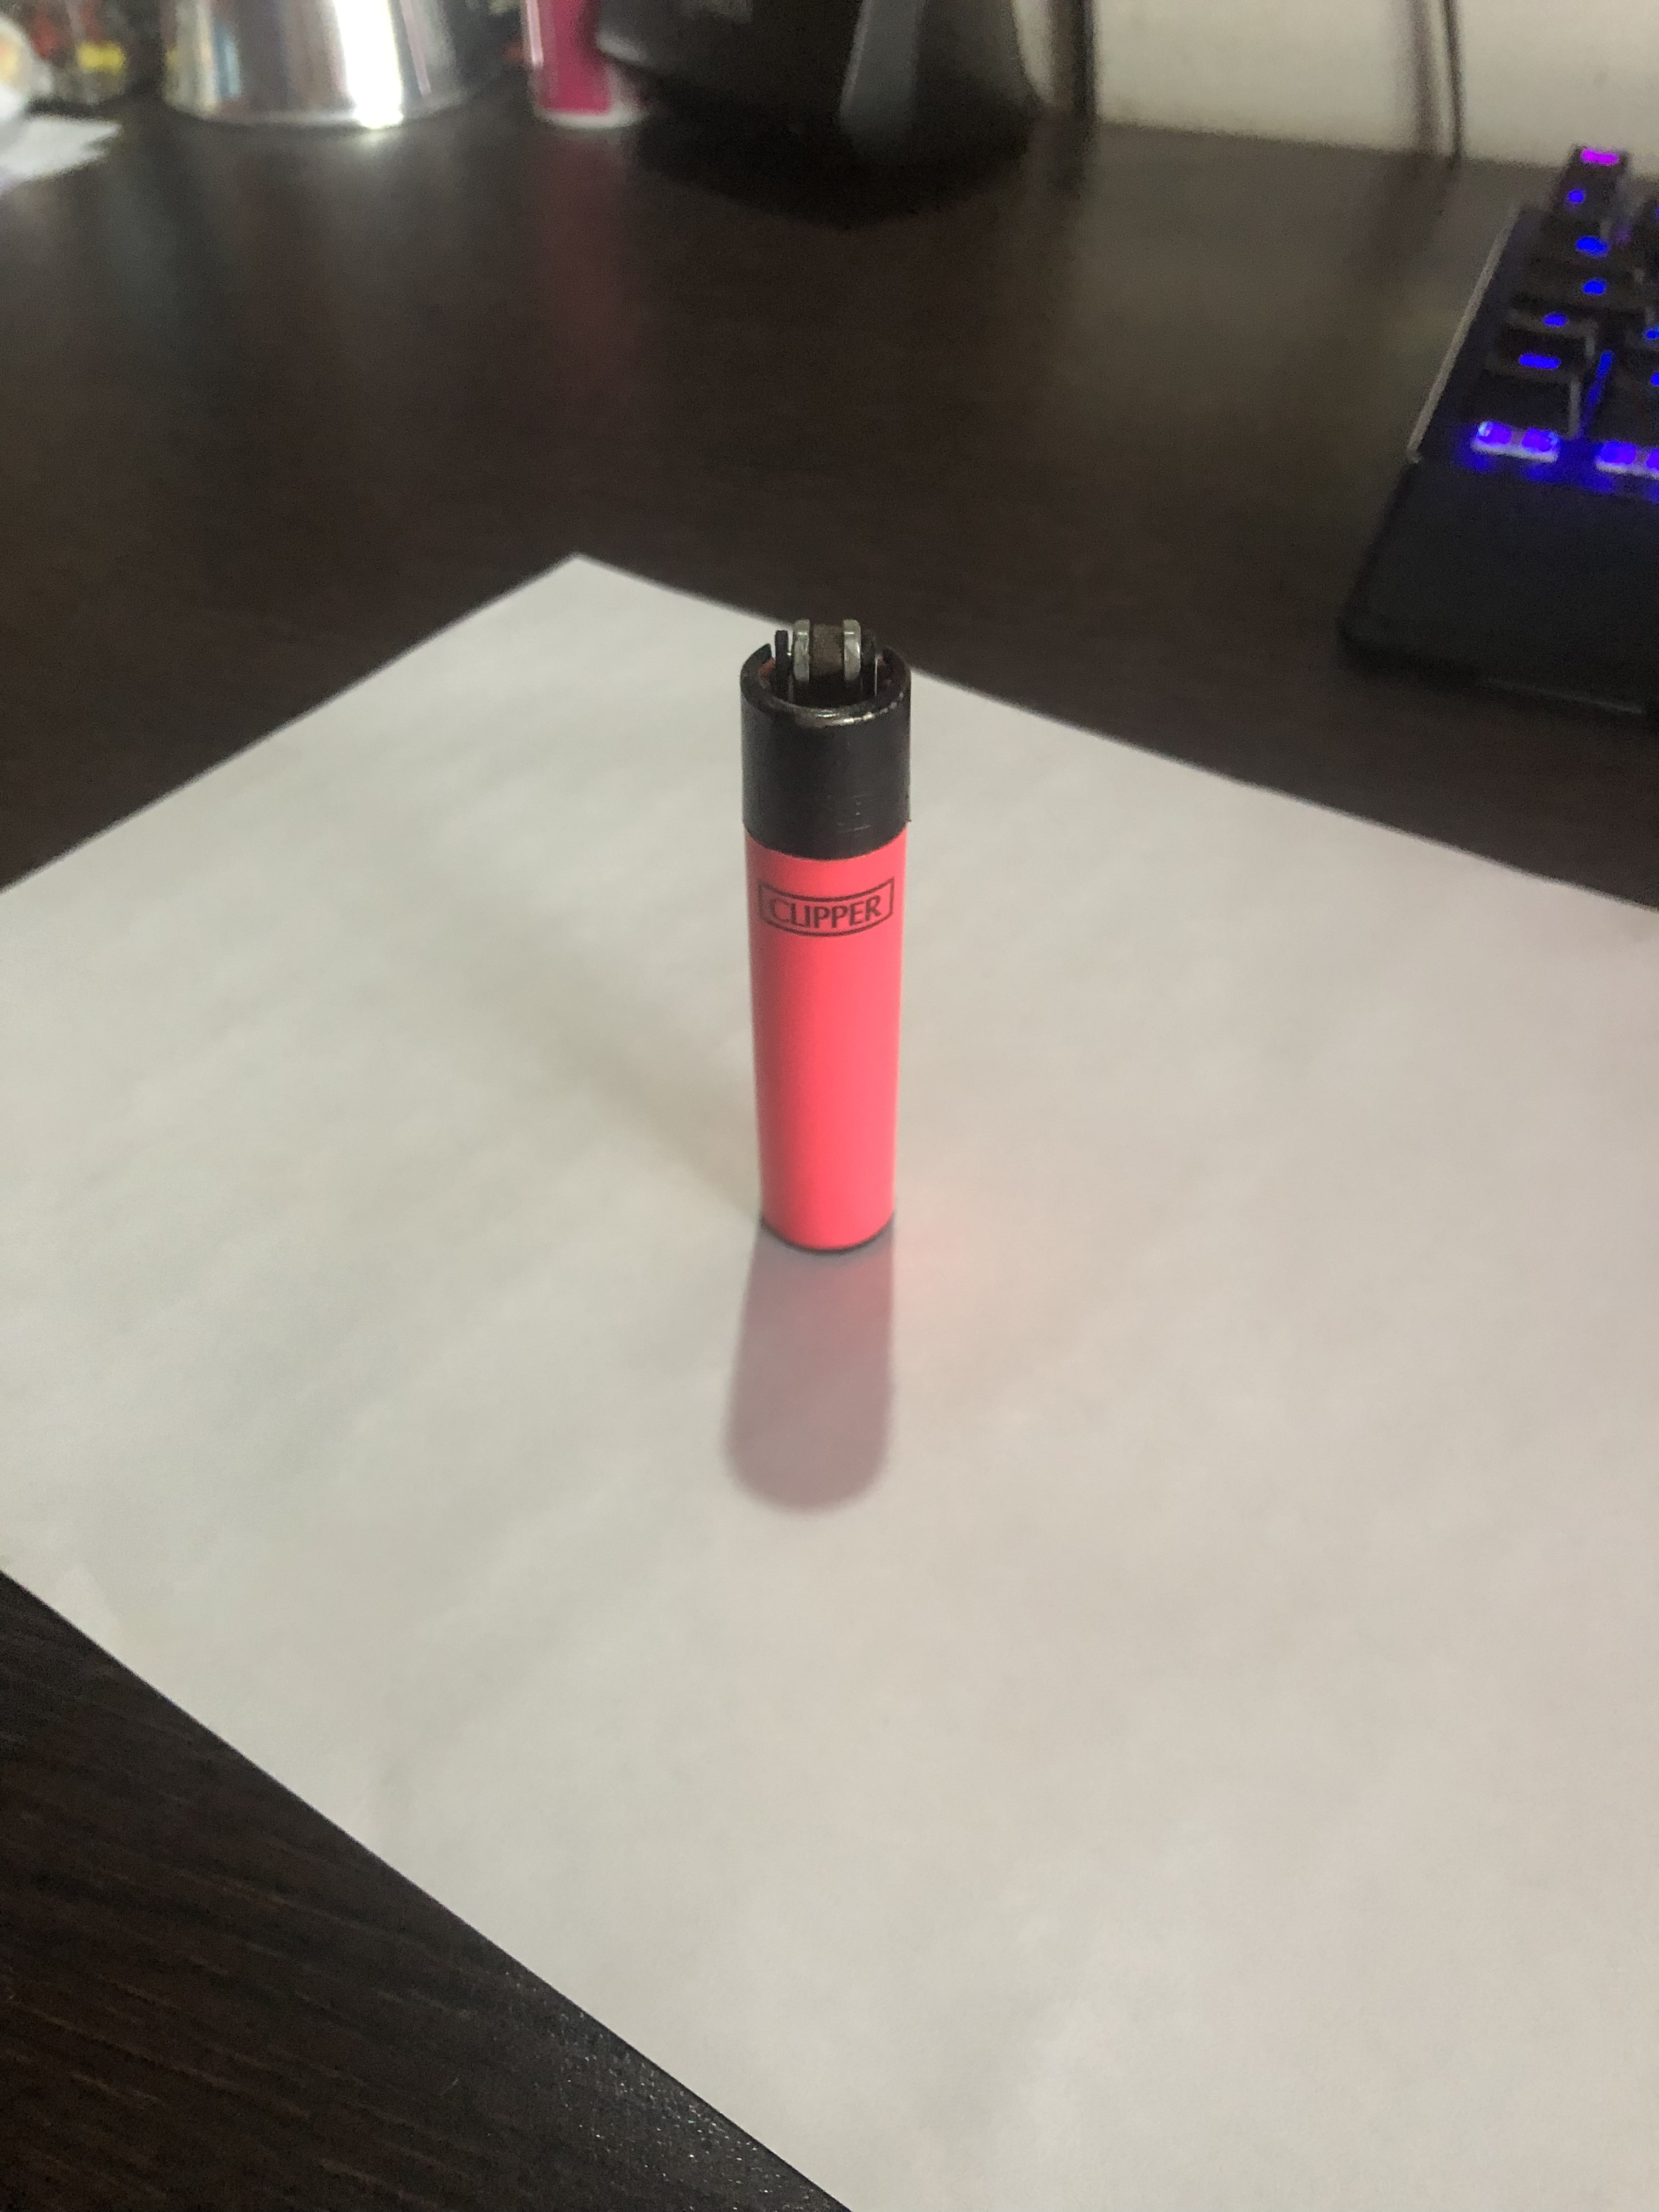Mechero: (728, 601, 924, 1270)
